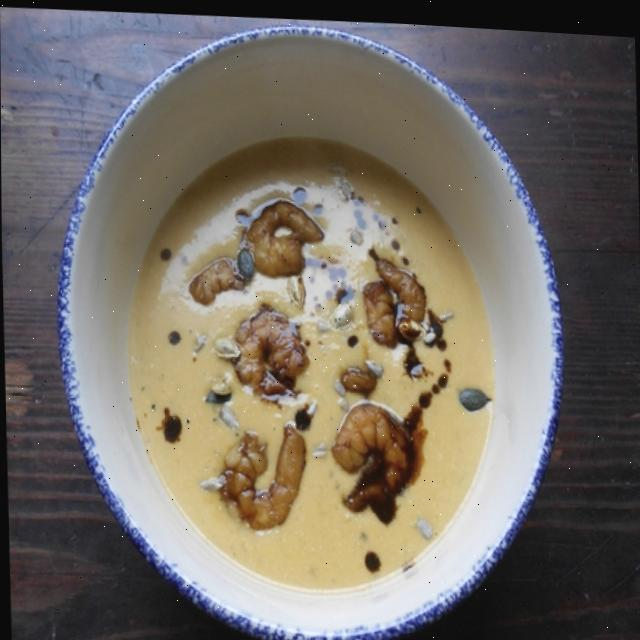汤锅炖物: (65, 35, 552, 631)
